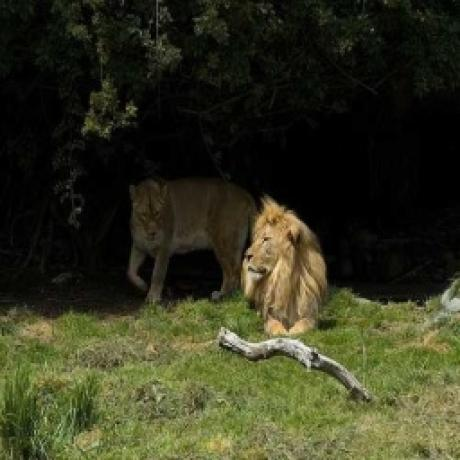Lion: (112, 172, 256, 302), (241, 195, 327, 340)
